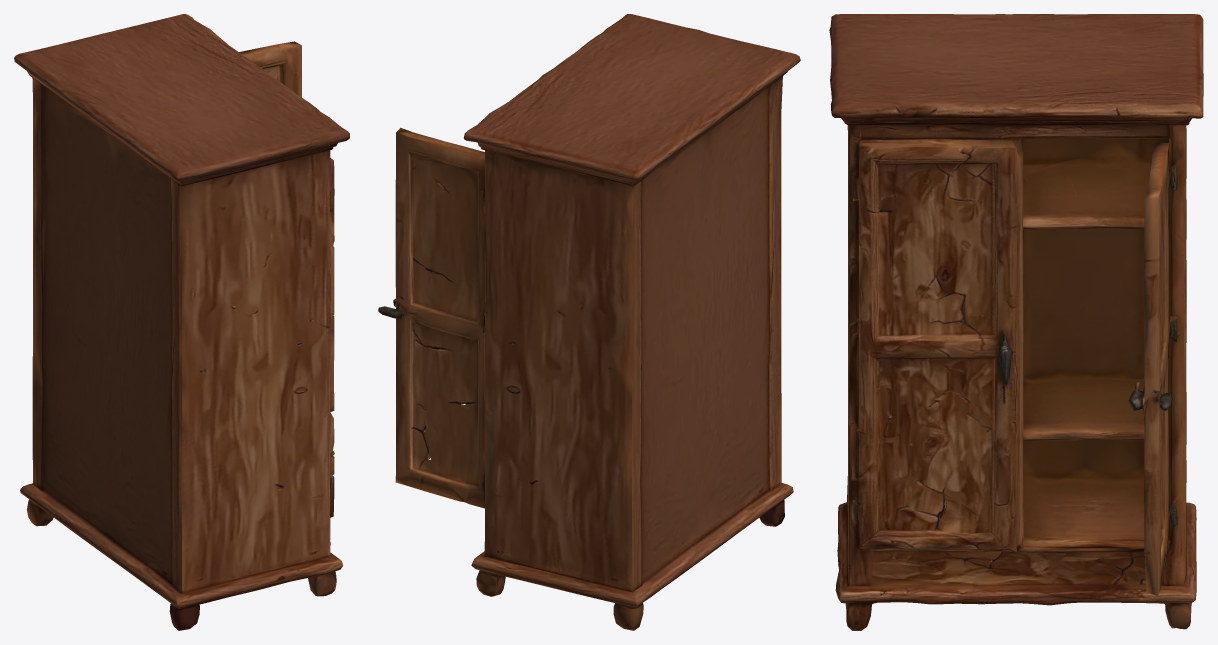
File: wardrobe.glb
The picture shows the model from 3 angles, left to right: view 1: azimuth 30°, elevation 25°; view 2: azimuth 150°, elevation 25°; view 3: azimuth 270°, elevation 25°; orthographic projection. The views are drawn at different scales.
Parts seen in each view (by area): view 1: tripo_node_1939ad8f-1f1f-4536-88de-195531eb5579; view 2: tripo_node_1939ad8f-1f1f-4536-88de-195531eb5579; view 3: tripo_node_1939ad8f-1f1f-4536-88de-195531eb5579.
Boxes of the visible parts, x1,y1,x2,y2 form: tripo_node_1939ad8f-1f1f-4536-88de-195531eb5579: (14,14,349,630); tripo_node_1939ad8f-1f1f-4536-88de-195531eb5579: (378,14,800,630); tripo_node_1939ad8f-1f1f-4536-88de-195531eb5579: (829,14,1203,630).
Bounding box in the file's own units: 0.7411 × 1.2 × 0.7679.
Materials: 1 (1 with a texture image).
